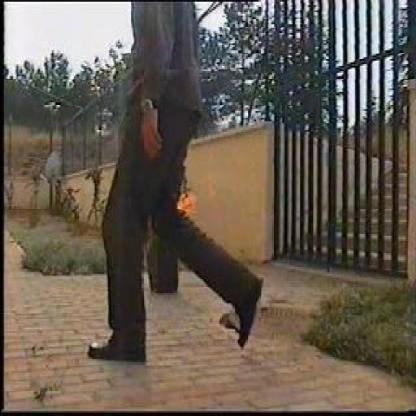-: (200, 152, 219, 164)
foggia-v2-map80-epoch100 - v1 4323: (178, 180, 221, 207)
